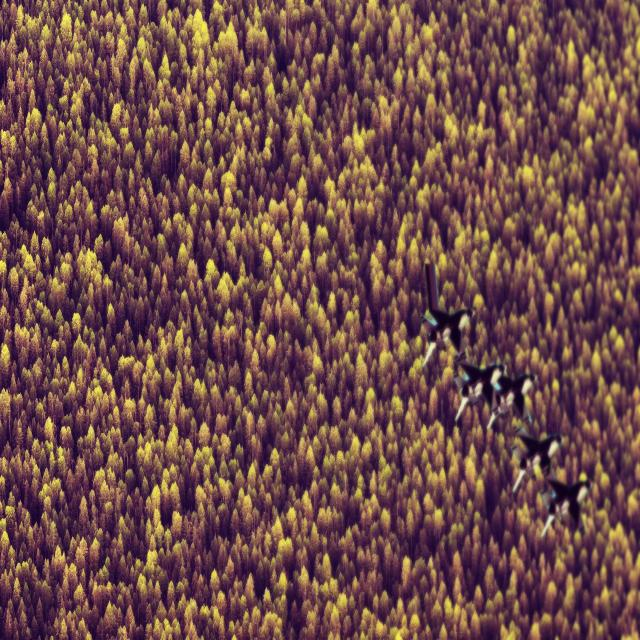airplane: (419, 258, 473, 368), (451, 354, 505, 422), (539, 476, 592, 540), (508, 430, 562, 491), (488, 367, 536, 427)
